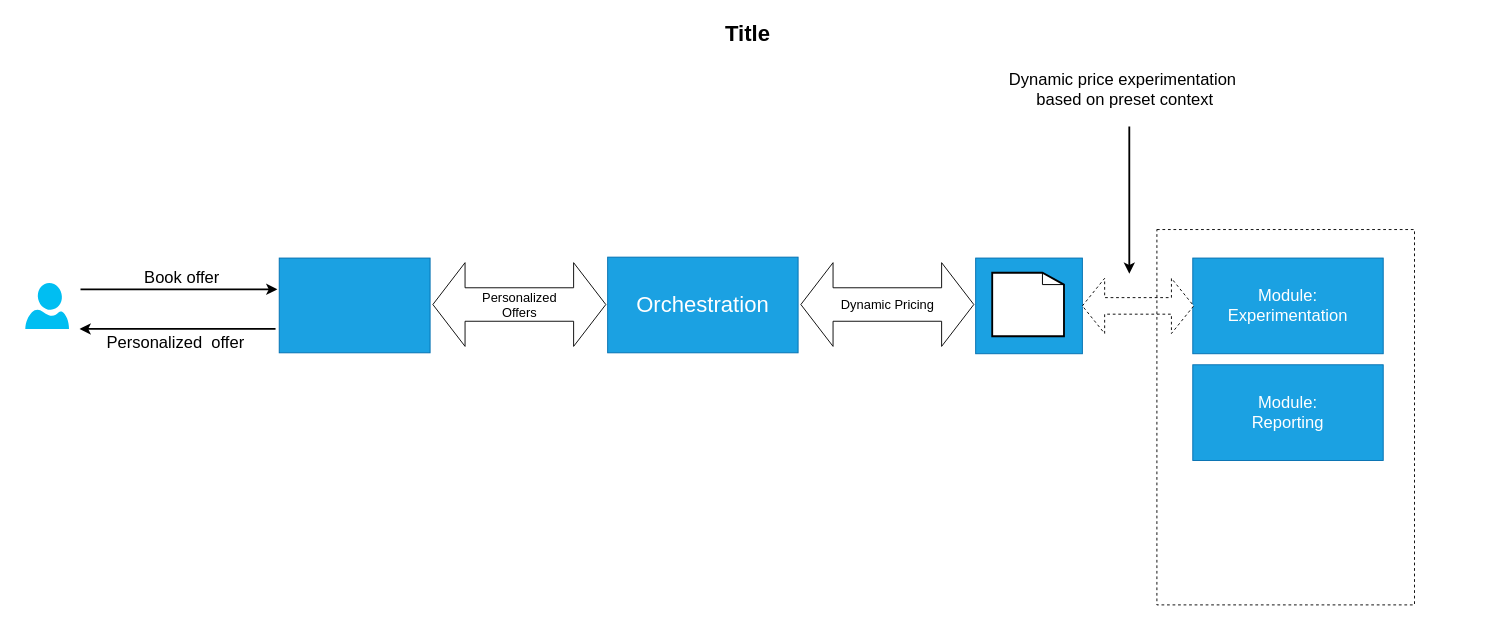
Image size: 1494x621. Some labels were removed from this diagram. The shapes that lost their labels are listed below. From the top down, each one's centre as x and y in pixels, then its label:
At point 47,305: "Guest".
At point 354,305: "POS".
At point 1027,304: "Product Catalogue".
